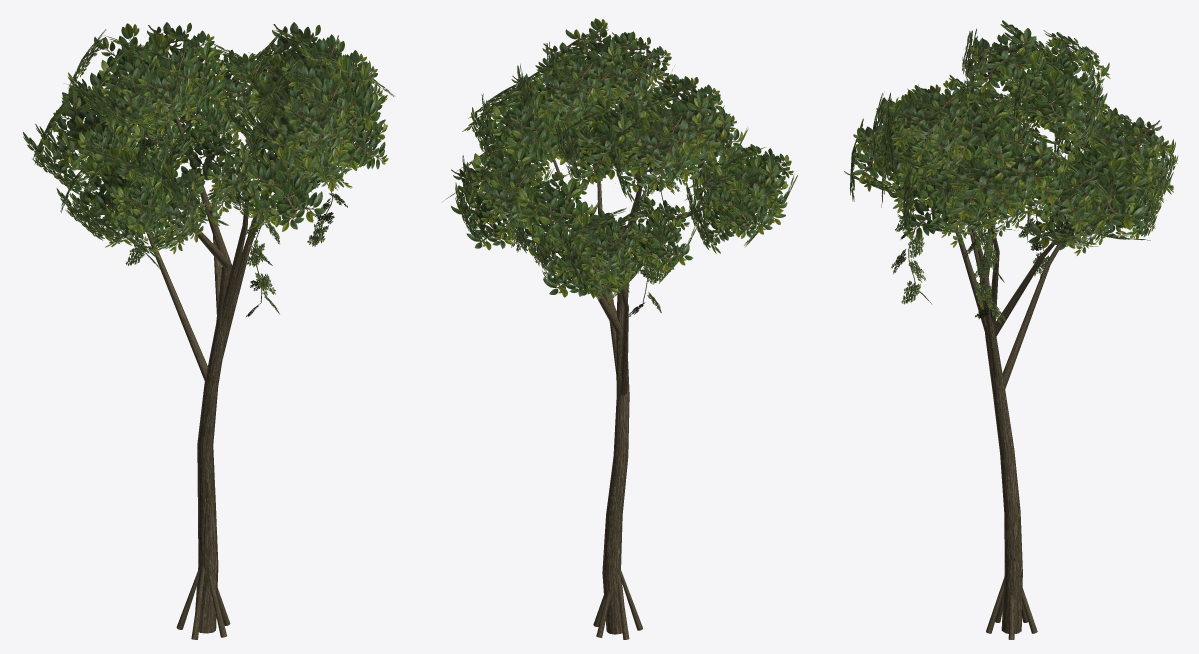
File: background_tree_02.glb
3 renders of one model, left to right at view 1: azimuth 30°, elevation 25°; view 2: azimuth 150°, elevation 25°; view 3: azimuth 270°, elevation 25°, orthographic. The views are drawn at different scales.
Visible parts, largest first — view 1: background_tree_02; view 2: background_tree_02; view 3: background_tree_02.
Boxes of the visible parts, box(x1,y1,x2,y2) form: background_tree_02: box(23, 22, 395, 639); background_tree_02: box(443, 18, 797, 639); background_tree_02: box(844, 20, 1178, 639).
Bounding box in the file's own units: 8.06 × 13.88 × 7.76.
Materials: 2 (2 with a texture image).
